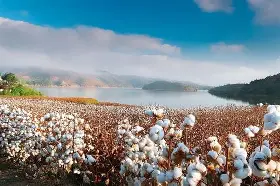crops: (120, 102, 280, 184), (0, 102, 98, 179), (106, 85, 224, 106), (0, 90, 102, 104), (248, 141, 278, 178), (245, 104, 278, 137), (203, 135, 225, 174), (148, 117, 170, 142)
